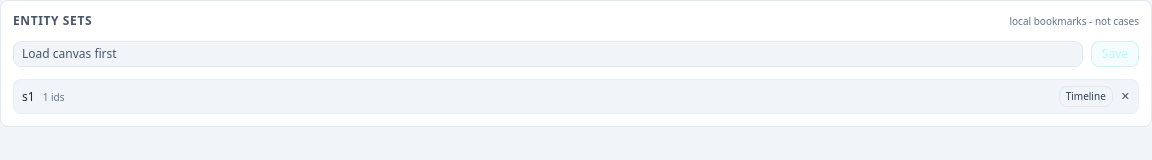
Test case: EntitySetPanel › persists sets across mounts and removes them
The image size is (1152, 160).
Expected: the text "s1" is shown, x1=22 y1=88 x2=35 y2=104
Click the button named "Remove set s1".
click(1125, 97)  # box x1=1121 y1=88 x2=1130 y2=105
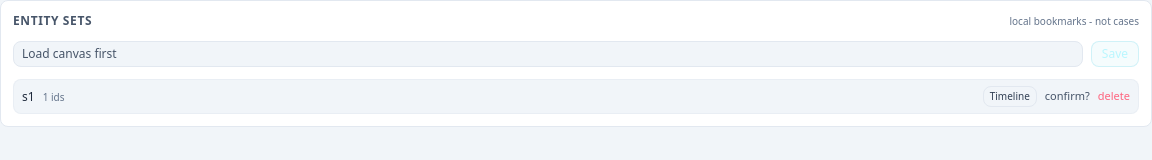
two-step: first click asks, second confirms (local sets are unrecoverable)
Click the button with test id "entity-set-delete-confirm-s1".
click(1114, 97)  # box x1=1098 y1=88 x2=1130 y2=105
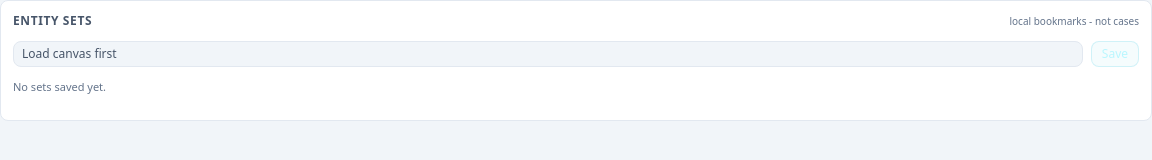
Result: the button "s1" is gone
